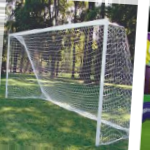goals: (4, 17, 131, 145)
